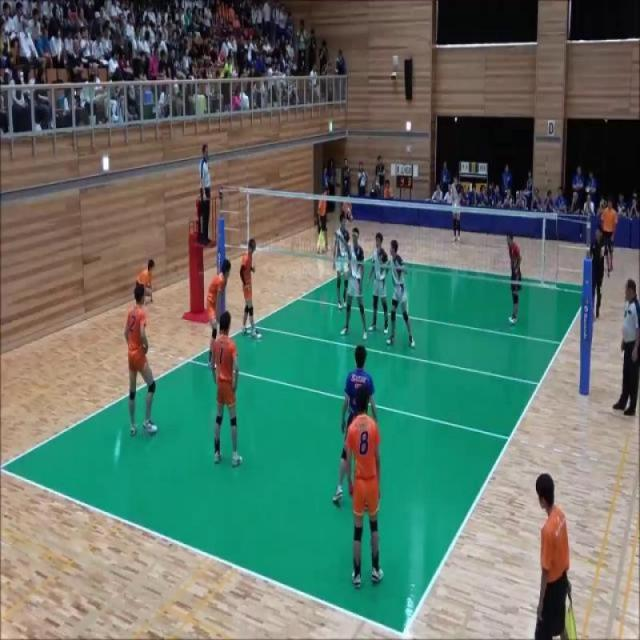volleyball: (452, 202, 457, 214)
